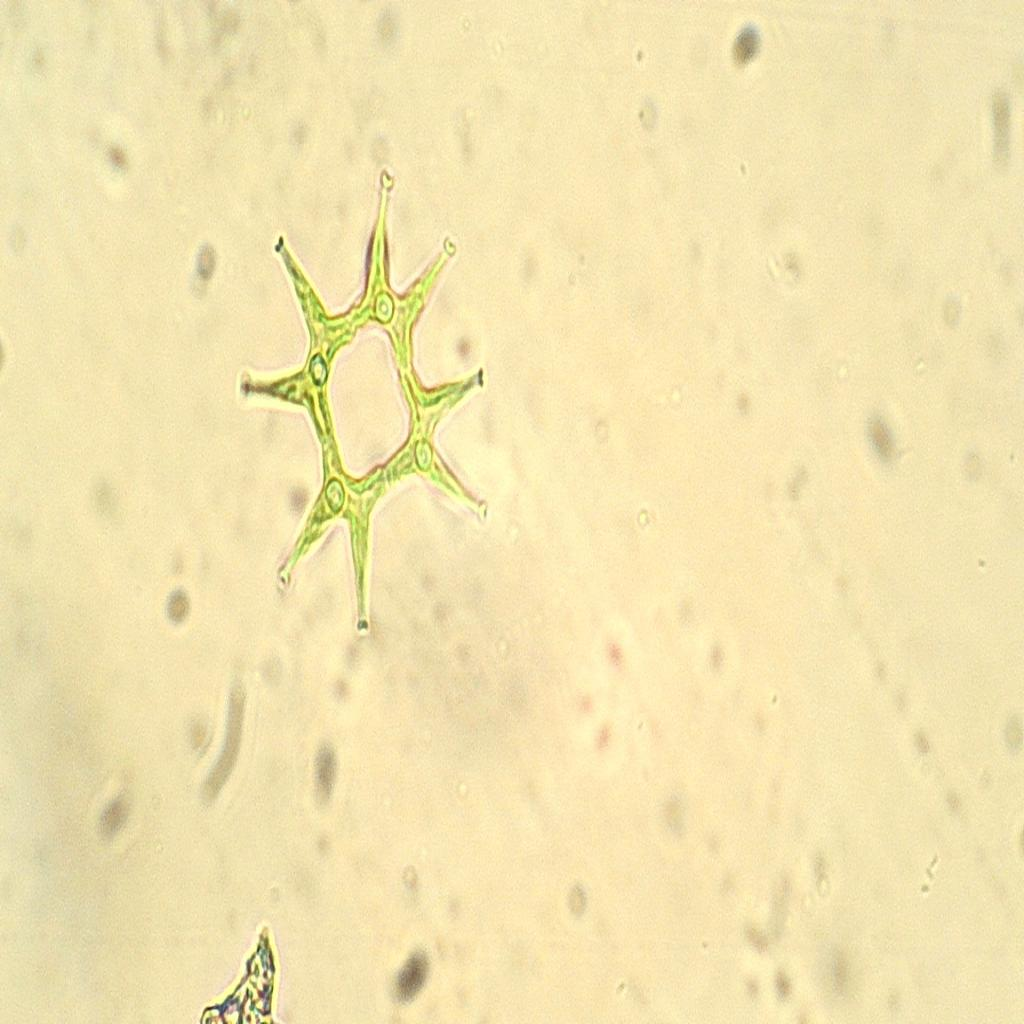Pediastrum_10: (223, 150, 509, 646)
